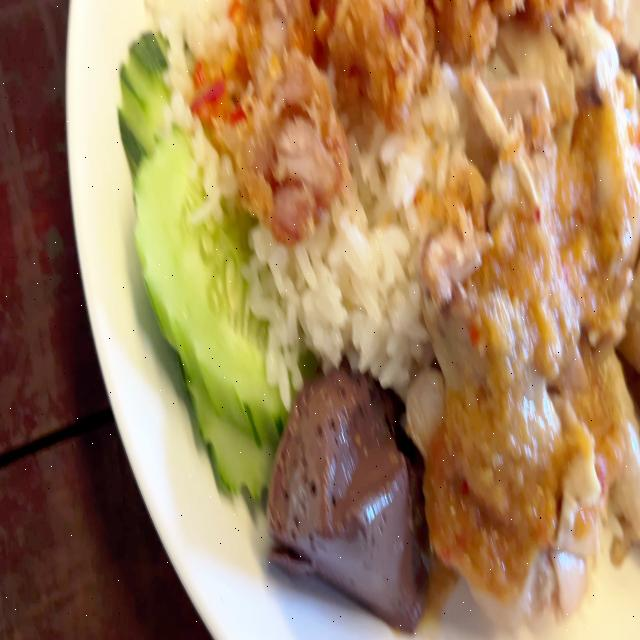boiled_chicken: (431, 0, 639, 562)
boiled_chicken_blood_jelly: (268, 364, 432, 629)
chicken_rice: (115, 0, 640, 628)
cucumber: (117, 29, 287, 490)
fried_chicken: (196, 0, 501, 194)
